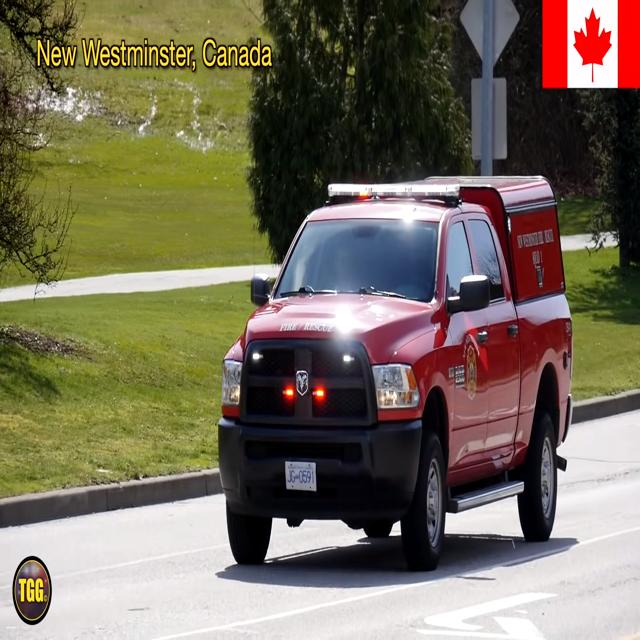emergency-vehicles: (214, 164, 576, 571)
